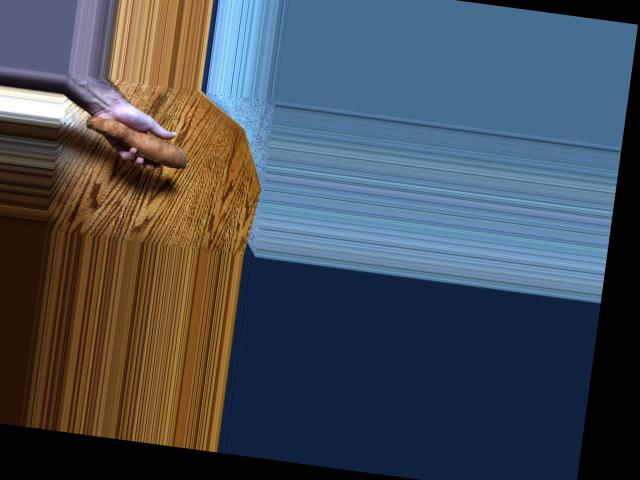sweet_potato: (70, 114, 192, 173)
